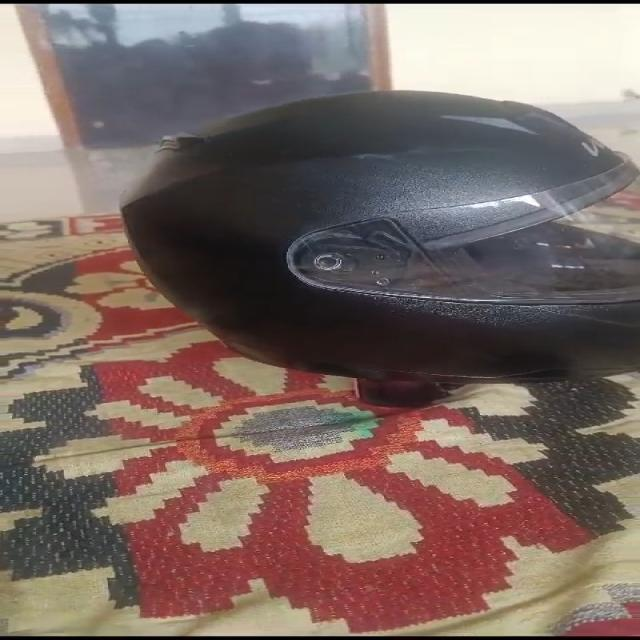Helmet: (120, 90, 640, 381)
